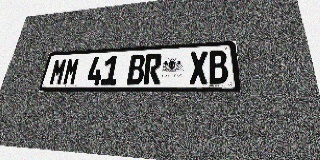1: (101, 56, 120, 85)
4: (86, 56, 105, 85)
B: (208, 50, 229, 84), (127, 54, 145, 85)
M: (48, 58, 68, 86), (62, 58, 81, 85)
R: (143, 53, 162, 85)
X: (189, 51, 208, 84)
